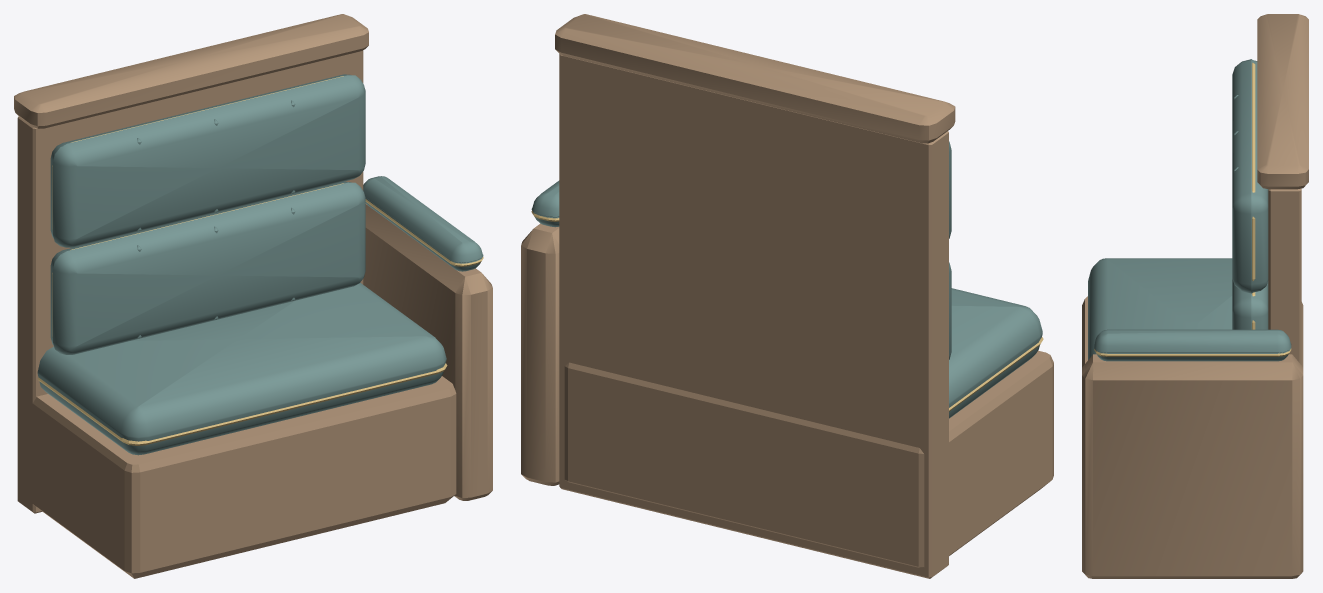
Rendered from restaurant-kitchen-and-dining-banquette-end-2121b0fc__16498.glb.
3 views of the same model, side by side, from view 1: azimuth 30°, elevation 25°; view 2: azimuth 150°, elevation 25°; view 3: azimuth 270°, elevation 25° (orthographic). The views are drawn at different scales.
Parts seen in each view (by area): view 1: banquette-end; view 2: banquette-end; view 3: banquette-end.
Boxes of the visible parts, x1=… form: banquette-end: x1=14, y1=14, x2=492, y2=578; banquette-end: x1=521, y1=14, x2=1053, y2=578; banquette-end: x1=1082, y1=14, x2=1308, y2=578.
Size of the model in its own units: 1.12 by 1.18 by 0.6151.
